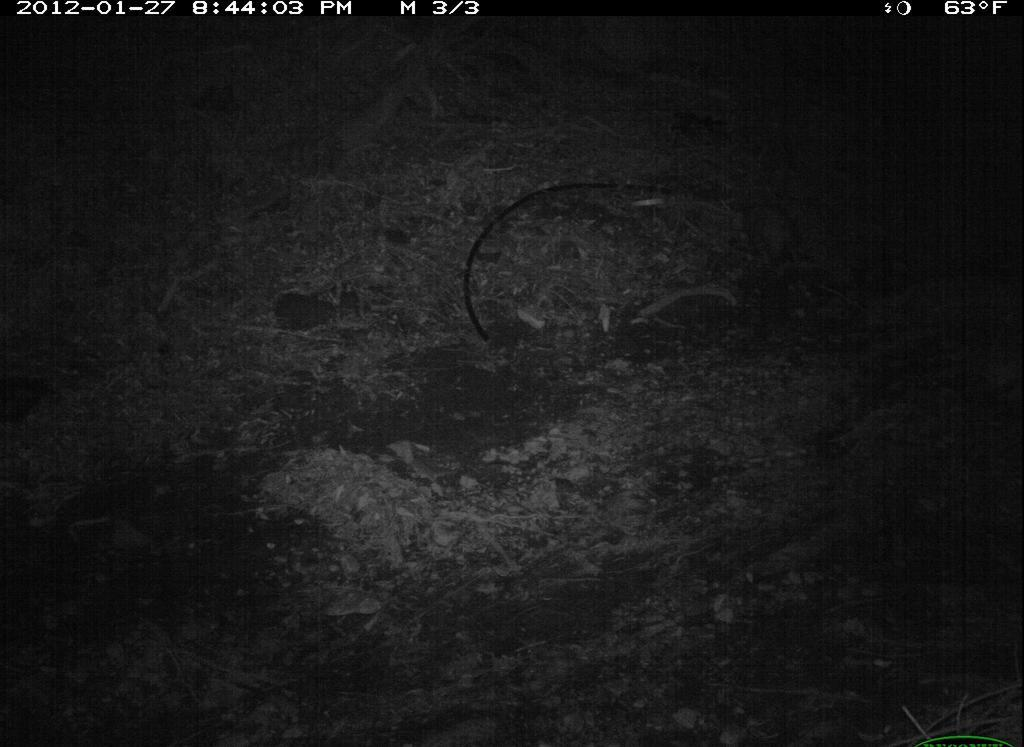opossum: (733, 192, 820, 294)
